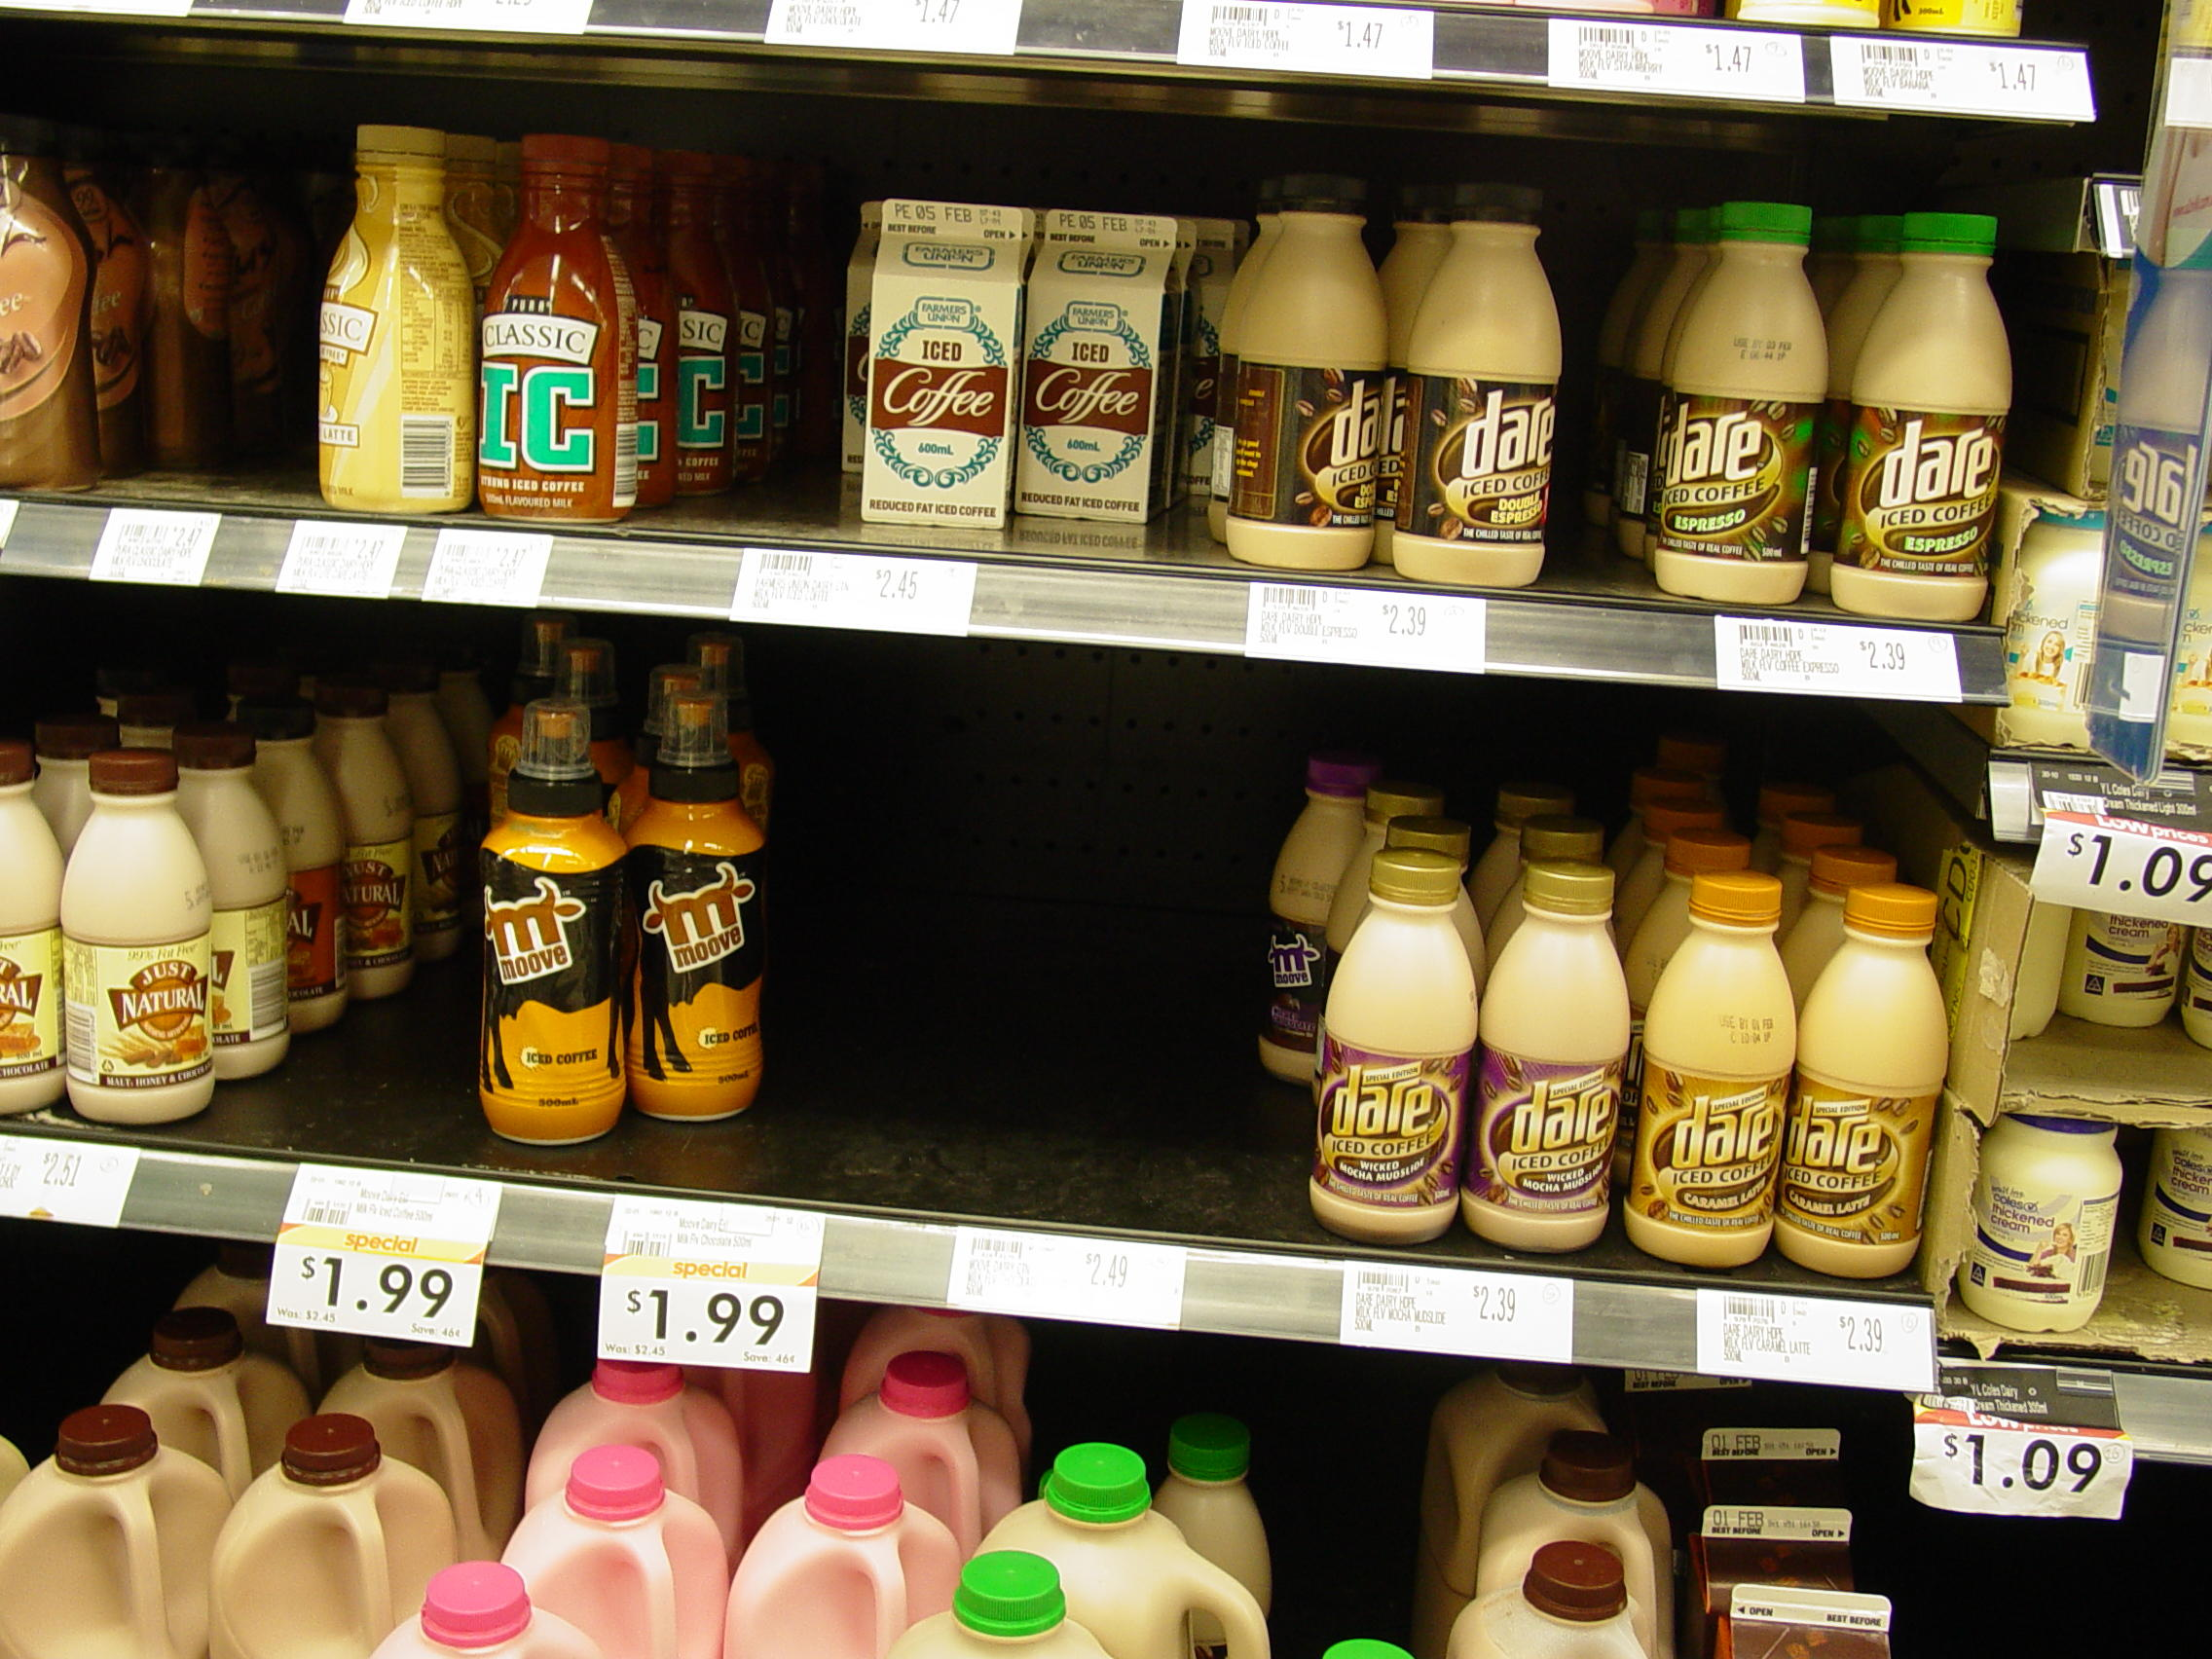Misplacement: (453, 622, 749, 1169), (859, 155, 1172, 570)
Out-of-stock: (779, 645, 1292, 1237), (94, 84, 303, 502)
